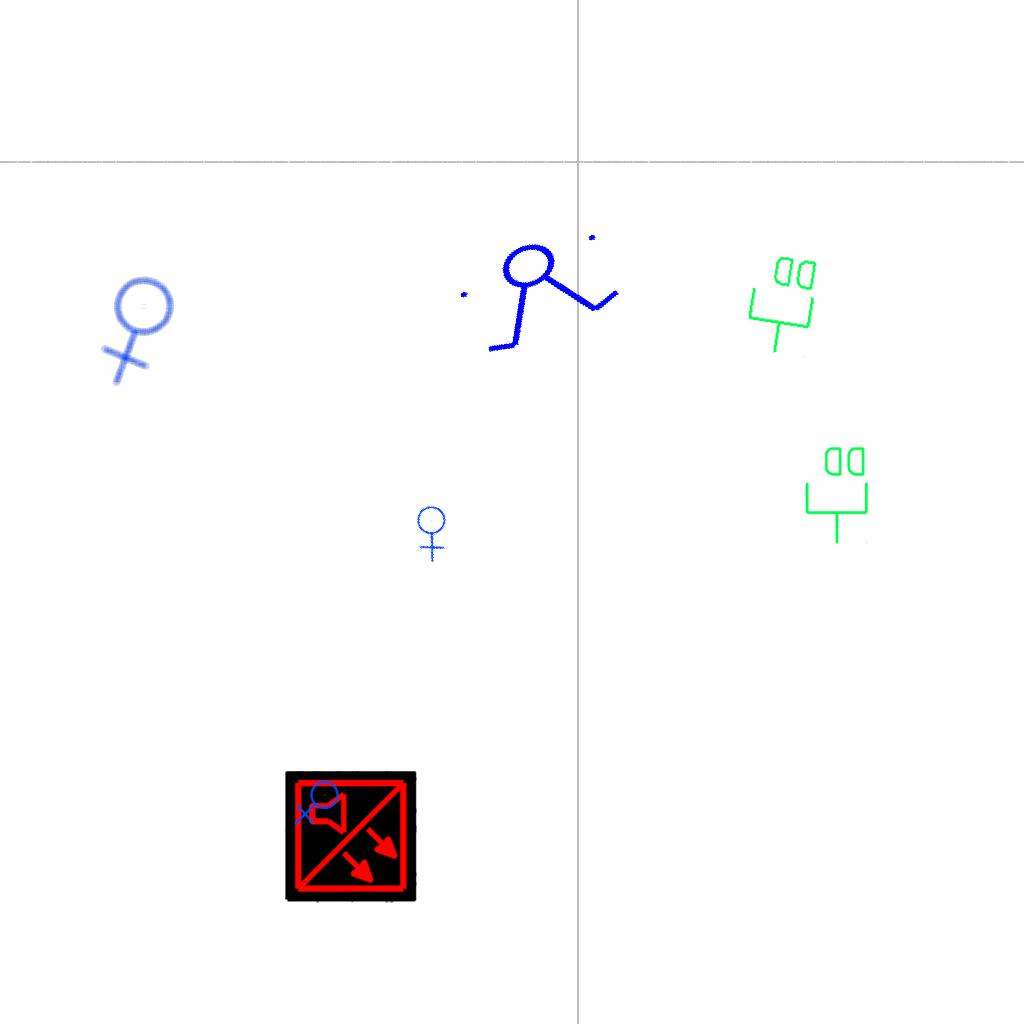Datenanschluss_zweifach: (740, 248, 825, 361), (803, 443, 872, 546)
Elektroanschluss_allgemein_230V_Geraeteanschlussdose_230V: (75, 263, 206, 391), (399, 496, 468, 565), (294, 780, 343, 827)
OKW_Multisensormelder_(Kombination_optischer_Rauch-Kahlenmonoxid_Waerme-Melder): (285, 771, 417, 903)
Serienschalter: (443, 210, 637, 368)
